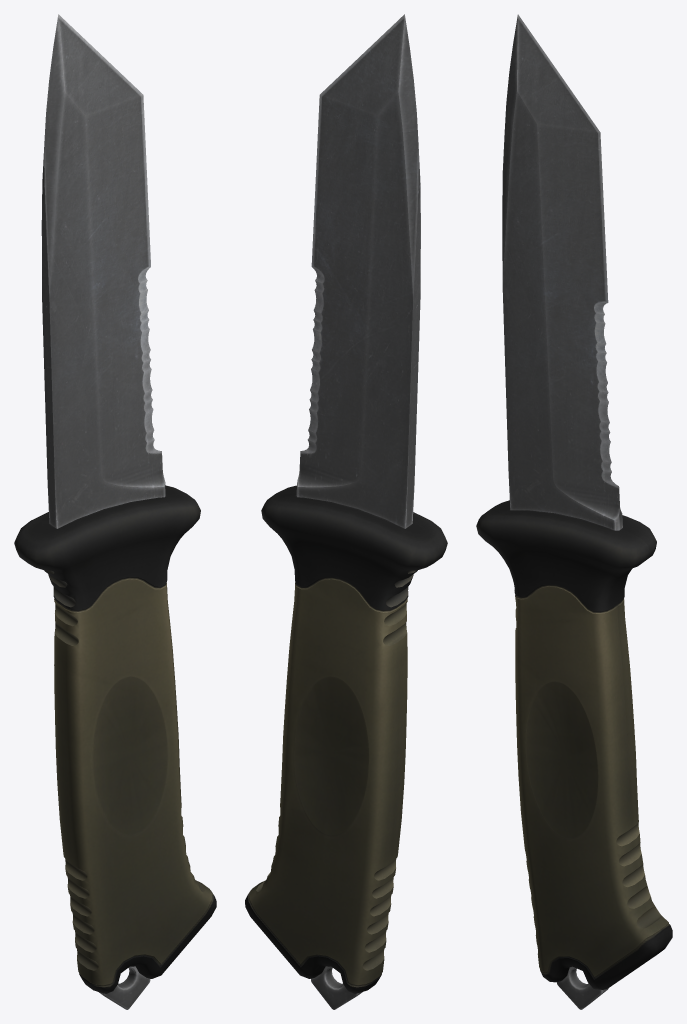
The model's file is weapon_knife_ursus.glb.
The picture shows the model from 3 angles, left to right: view 1: azimuth 30°, elevation 25°; view 2: azimuth 150°, elevation 25°; view 3: azimuth 330°, elevation 25°; orthographic projection. The views are drawn at different scales.
Visible parts, largest first — view 1: weapons/models/knife/knife_ursus/weapon_knife_ursus.vmdl_c.b; view 2: weapons/models/knife/knife_ursus/weapon_knife_ursus.vmdl_c.b; view 3: weapons/models/knife/knife_ursus/weapon_knife_ursus.vmdl_c.b.
Part boxes in pixels (x1,y1,x2,y2): weapons/models/knife/knife_ursus/weapon_knife_ursus.vmdl_c.b: (14, 14, 216, 1009); weapons/models/knife/knife_ursus/weapon_knife_ursus.vmdl_c.b: (245, 14, 447, 1009); weapons/models/knife/knife_ursus/weapon_knife_ursus.vmdl_c.b: (476, 14, 672, 1009).
Size of the model in its own units: 2.88 by 14.8 by 0.9254.
Materials: 1 (1 with a texture image).
